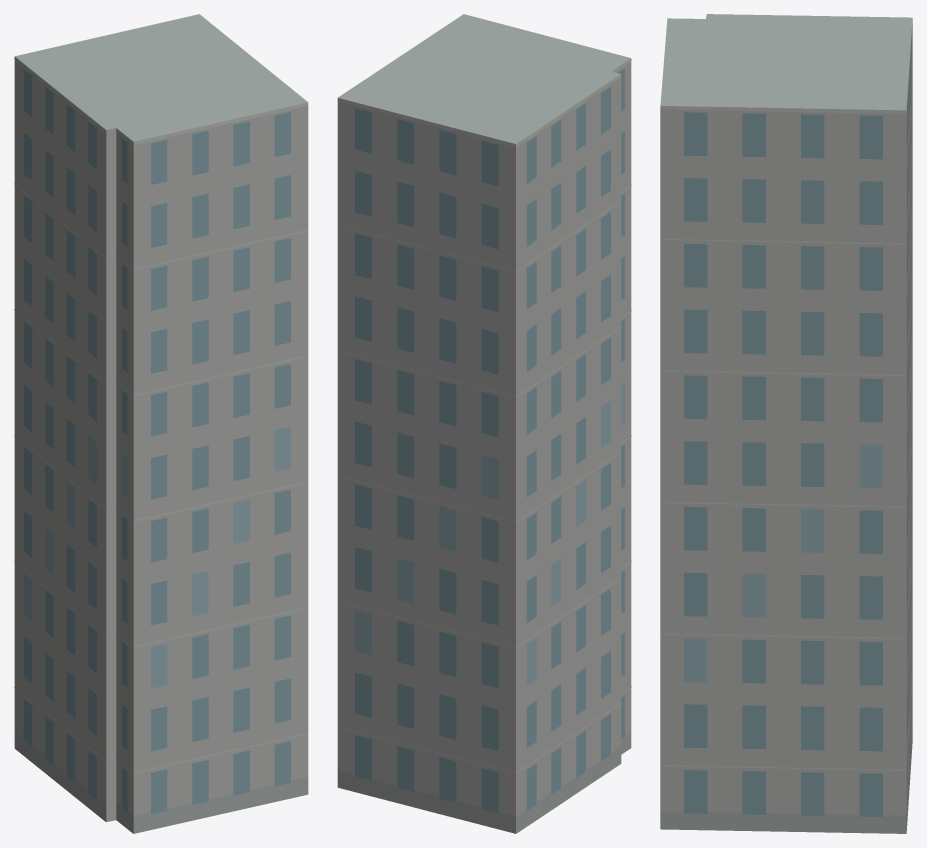
File: survey-upis-32783286.glb
3 views of the same model, side by side, from view 1: azimuth 30°, elevation 25°; view 2: azimuth 150°, elevation 25°; view 3: azimuth 270°, elevation 25° (orthographic). The views are drawn at different scales.
Visible parts, largest first — view 1: survey-upis-32783286.tmp; view 2: survey-upis-32783286.tmp; view 3: survey-upis-32783286.tmp.
Boxes of the visible parts, <box> form: survey-upis-32783286.tmp: <box>14,14,308,833</box>; survey-upis-32783286.tmp: <box>337,14,631,833</box>; survey-upis-32783286.tmp: <box>660,14,912,833</box>.
Size of the model in its own units: 13.54 by 47.3 by 14.97.
